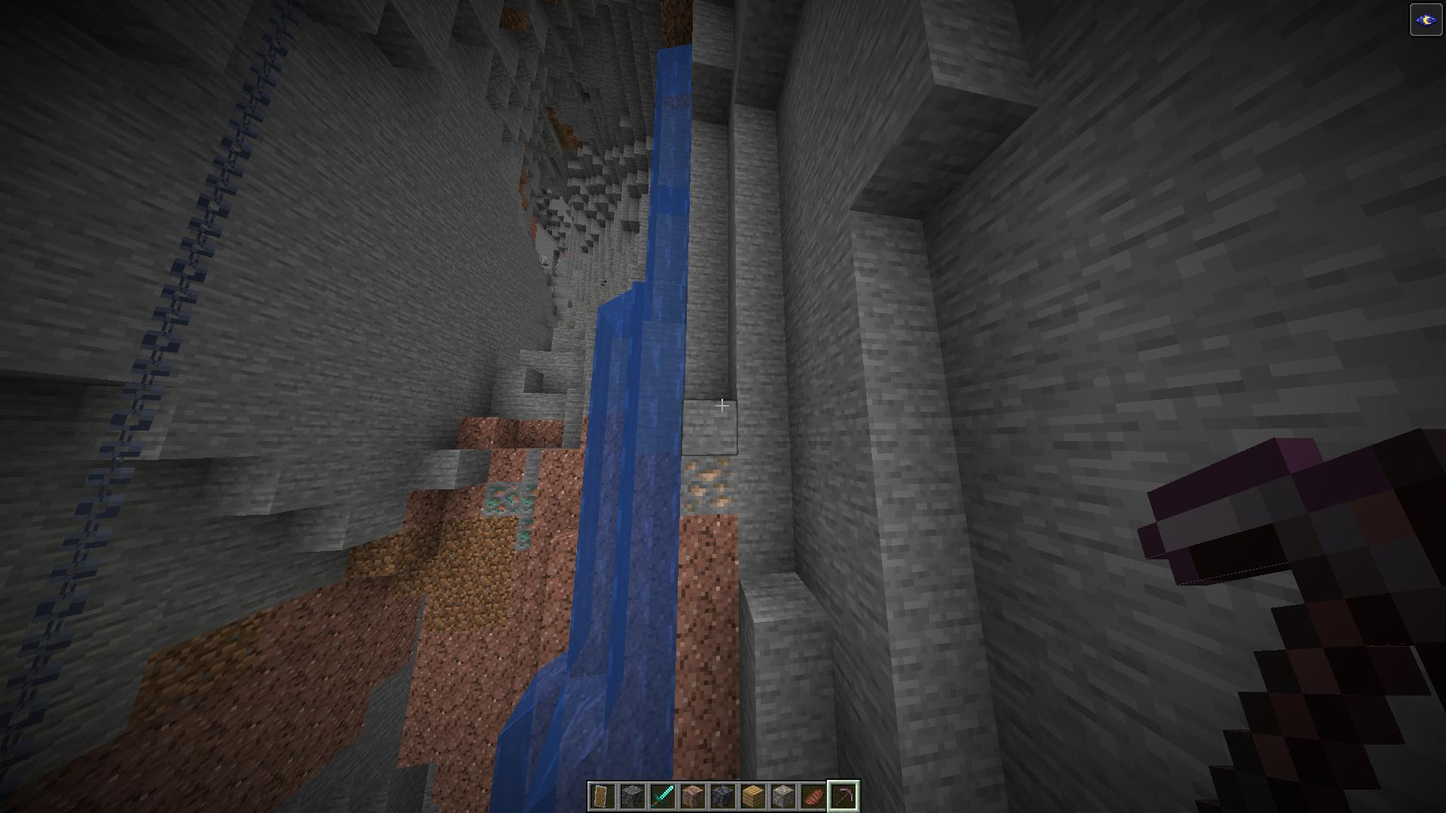iron ore: (682, 455, 739, 515)
